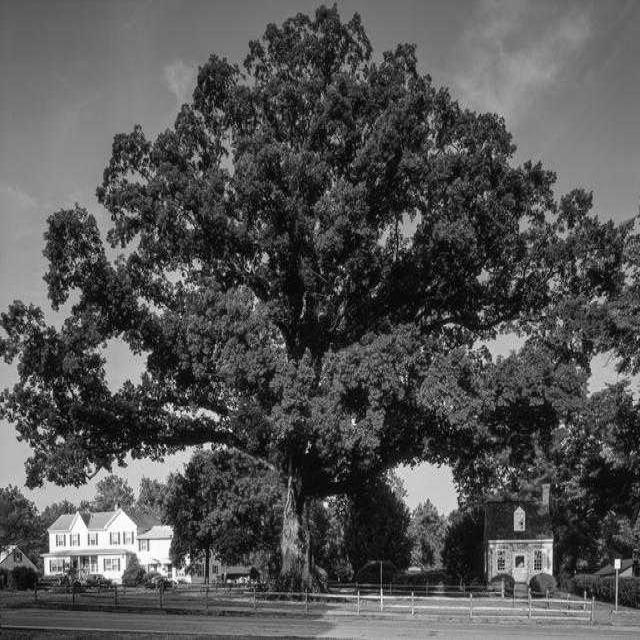Tree: (0, 8, 615, 586)
